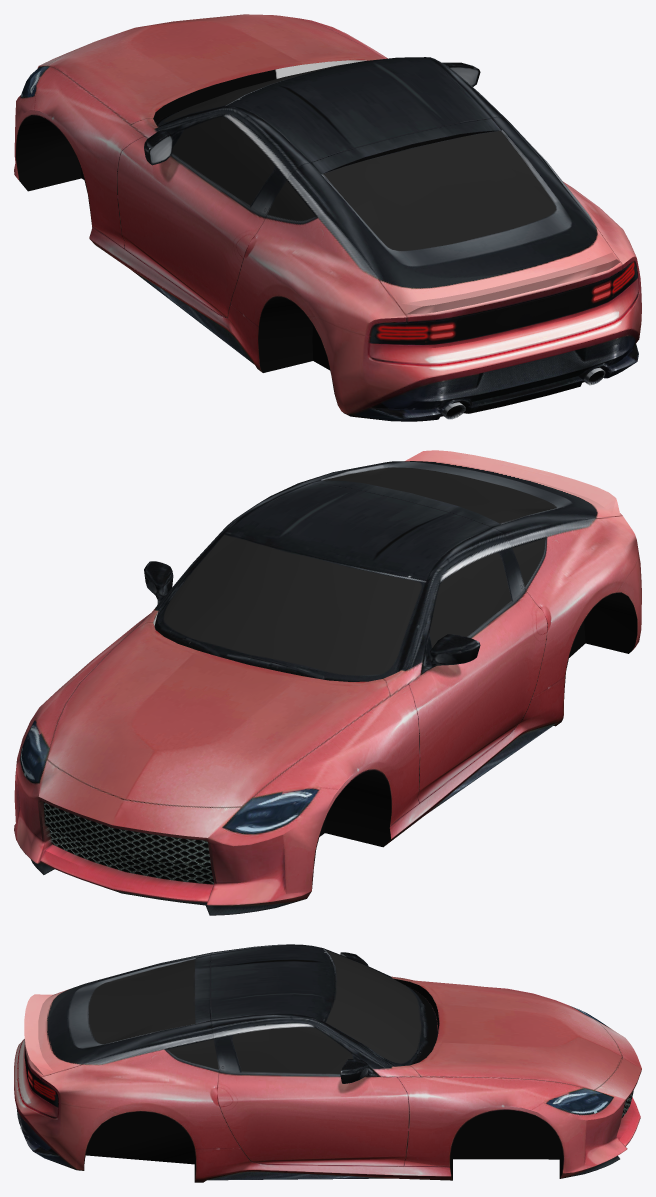
The model's file is car 10.fbx.
3 renders of one model, top to bottom at view 1: azimuth 30°, elevation 25°; view 2: azimuth 150°, elevation 25°; view 3: azimuth 270°, elevation 25°, orthographic. The views are drawn at different scales.
Parts seen in each view (by area): view 1: car; view 2: car; view 3: car.
Boxes of the visible parts, box(x1,y1,x2,y2) form: car: box(14, 14, 641, 421); car: box(14, 450, 641, 915); car: box(14, 944, 641, 1182).
Size of the model in its own units: 10.9 by 6.41 by 23.96.
Materials: 1 (1 with a texture image).
